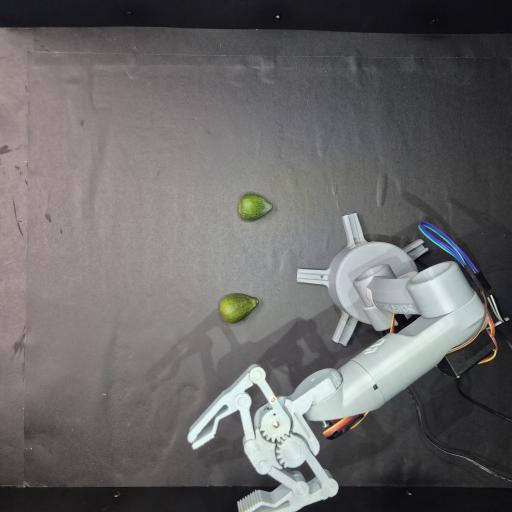higo: (219, 293, 258, 323), (238, 193, 272, 220)
